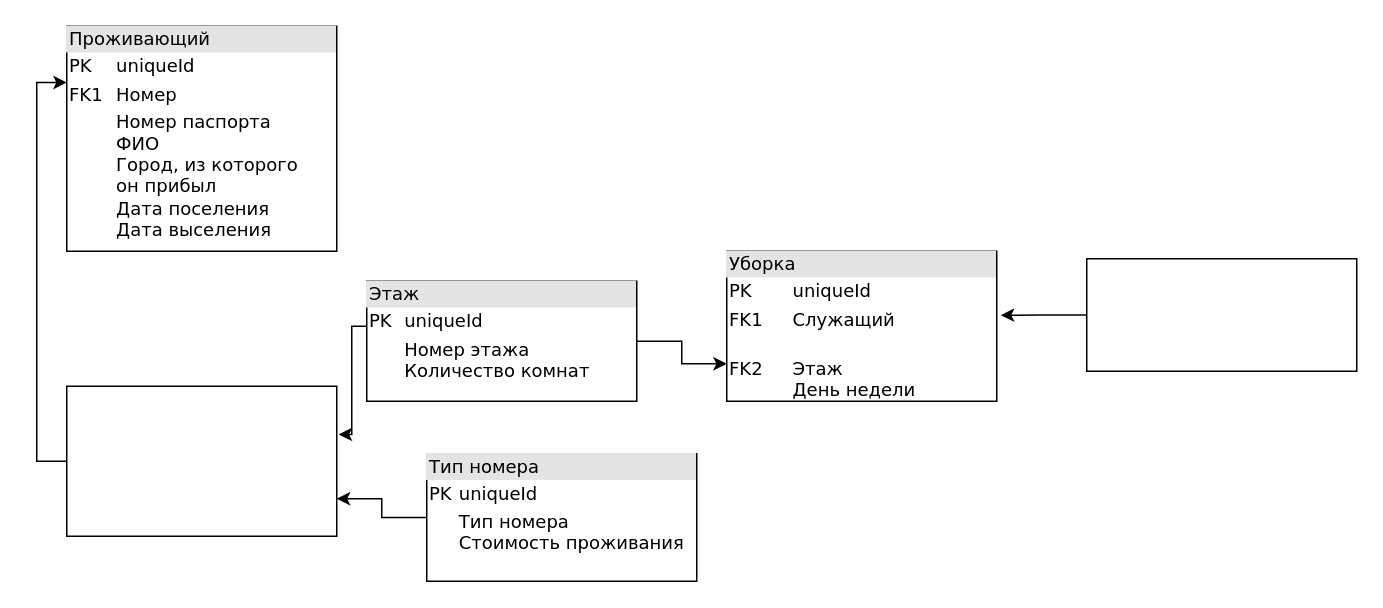
Some shapes in this 1383 by 608 pixel diagram are drawn without their labels. Here are the shapes that lost their labels. From the top down, the centre of each, then its label:
the point at 1221,314: Служащий PK uniqueId ФИО
the point at 201,460: Номер PK uniqueId FK1 Этаж FK2 Тип номера Телефон
